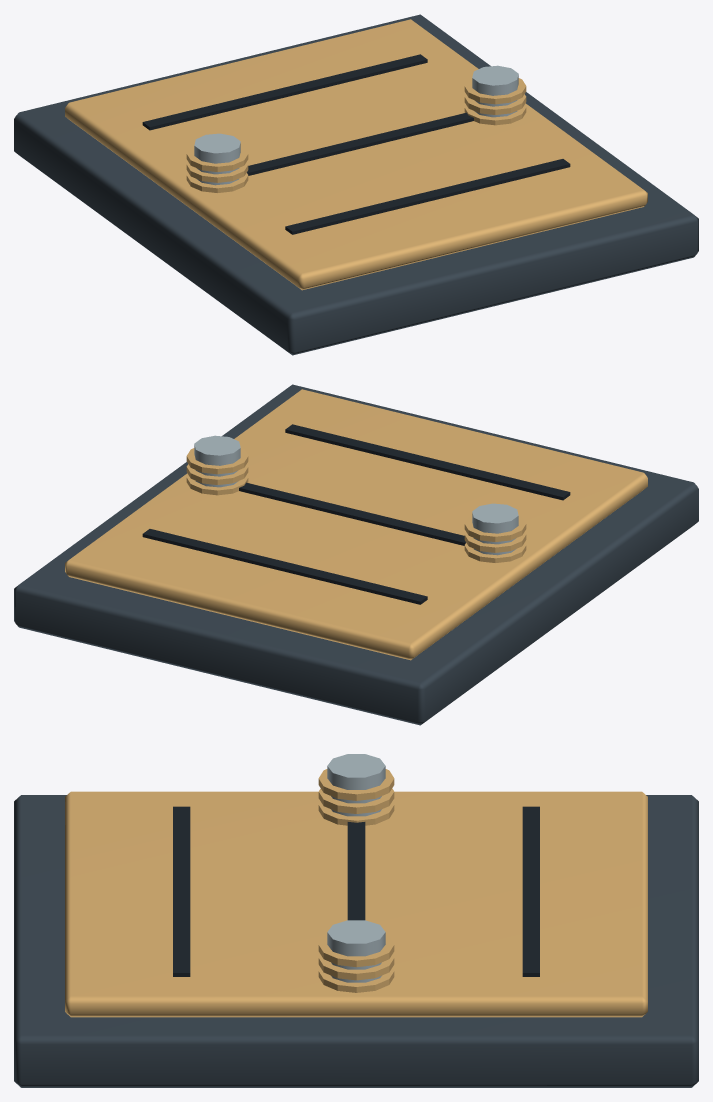
Rendered from nyanisyarud-camera-spring-pad.glb.
3 views of the same model, one above another, from view 1: azimuth 30°, elevation 25°; view 2: azimuth 150°, elevation 25°; view 3: azimuth 270°, elevation 25° (orthographic). The views are drawn at different scales.
Parts seen in each view (by area): view 1: SpringPlate, PadBase, PadPivot_black, spring-pad_brass, spring-pad_steel; view 2: SpringPlate, PadBase, PadPivot_black, spring-pad_brass, spring-pad_steel; view 3: SpringPlate, PadBase, PadPivot_black, spring-pad_brass, spring-pad_steel.
Boxes of the visible parts, box(x1,y1,x2,y2) form: SpringPlate: box(65, 19, 647, 290); PadBase: box(14, 14, 698, 355); PadPivot_black: box(142, 54, 570, 234); spring-pad_brass: box(186, 78, 526, 192); spring-pad_steel: box(194, 65, 518, 185); SpringPlate: box(65, 389, 647, 660); PadBase: box(14, 384, 698, 725); PadPivot_black: box(142, 424, 570, 604); spring-pad_brass: box(186, 448, 526, 562); spring-pad_steel: box(194, 435, 518, 555); SpringPlate: box(65, 791, 647, 1017); PadBase: box(14, 795, 698, 1087); PadPivot_black: box(173, 806, 539, 976); spring-pad_brass: box(318, 769, 394, 992); spring-pad_steel: box(327, 754, 385, 982).
Bounding box in the file's own units: 4 × 0.9 × 4.7.
